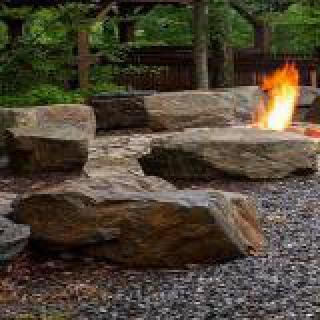fire: (240, 42, 316, 146)
